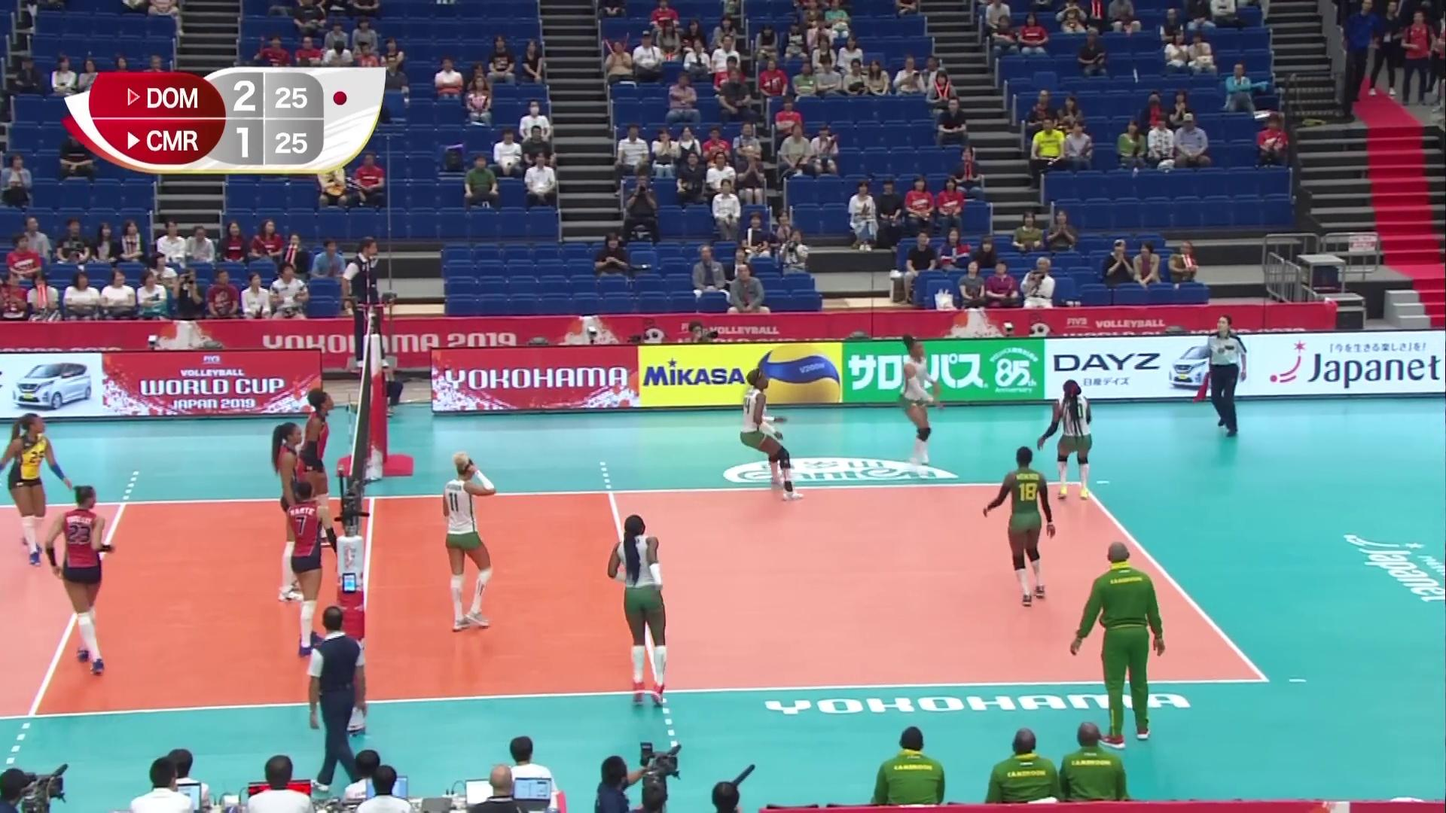player: (46, 484, 113, 678), (606, 516, 672, 708), (980, 446, 1059, 605), (436, 460, 501, 633), (0, 413, 72, 565), (286, 479, 342, 658), (264, 422, 316, 604), (740, 371, 806, 500), (290, 385, 339, 546), (1036, 379, 1099, 501), (902, 334, 946, 467)
refree: (307, 610, 370, 796), (1195, 310, 1249, 438), (341, 231, 385, 367)
